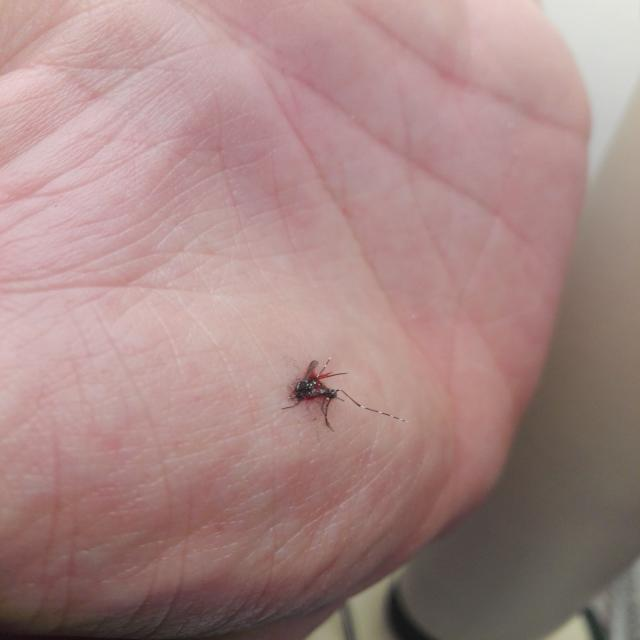albopictus: (276, 349, 406, 435)
